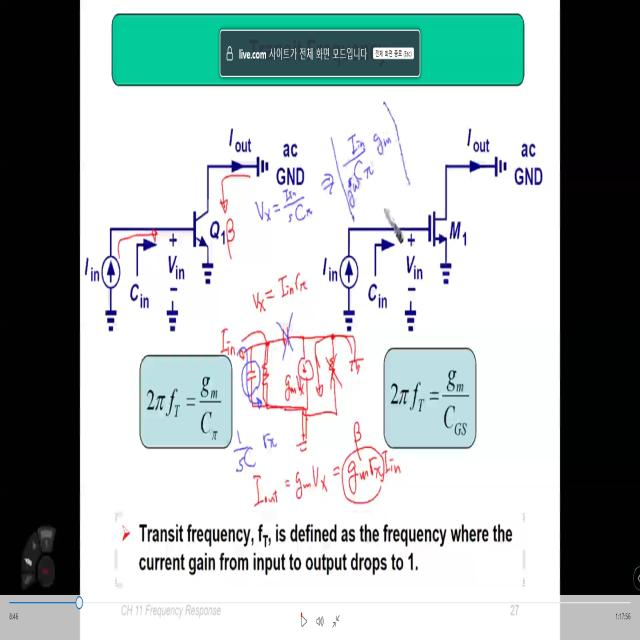panseo: (214, 270, 405, 513), (242, 92, 421, 236), (215, 211, 243, 258)
